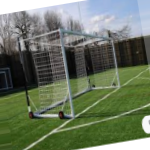goals: (23, 24, 122, 120)
